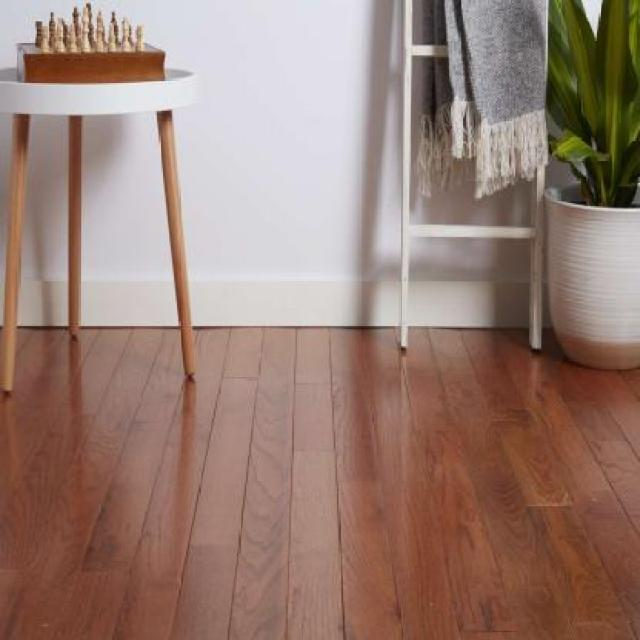Floor: (1, 326, 640, 639)
